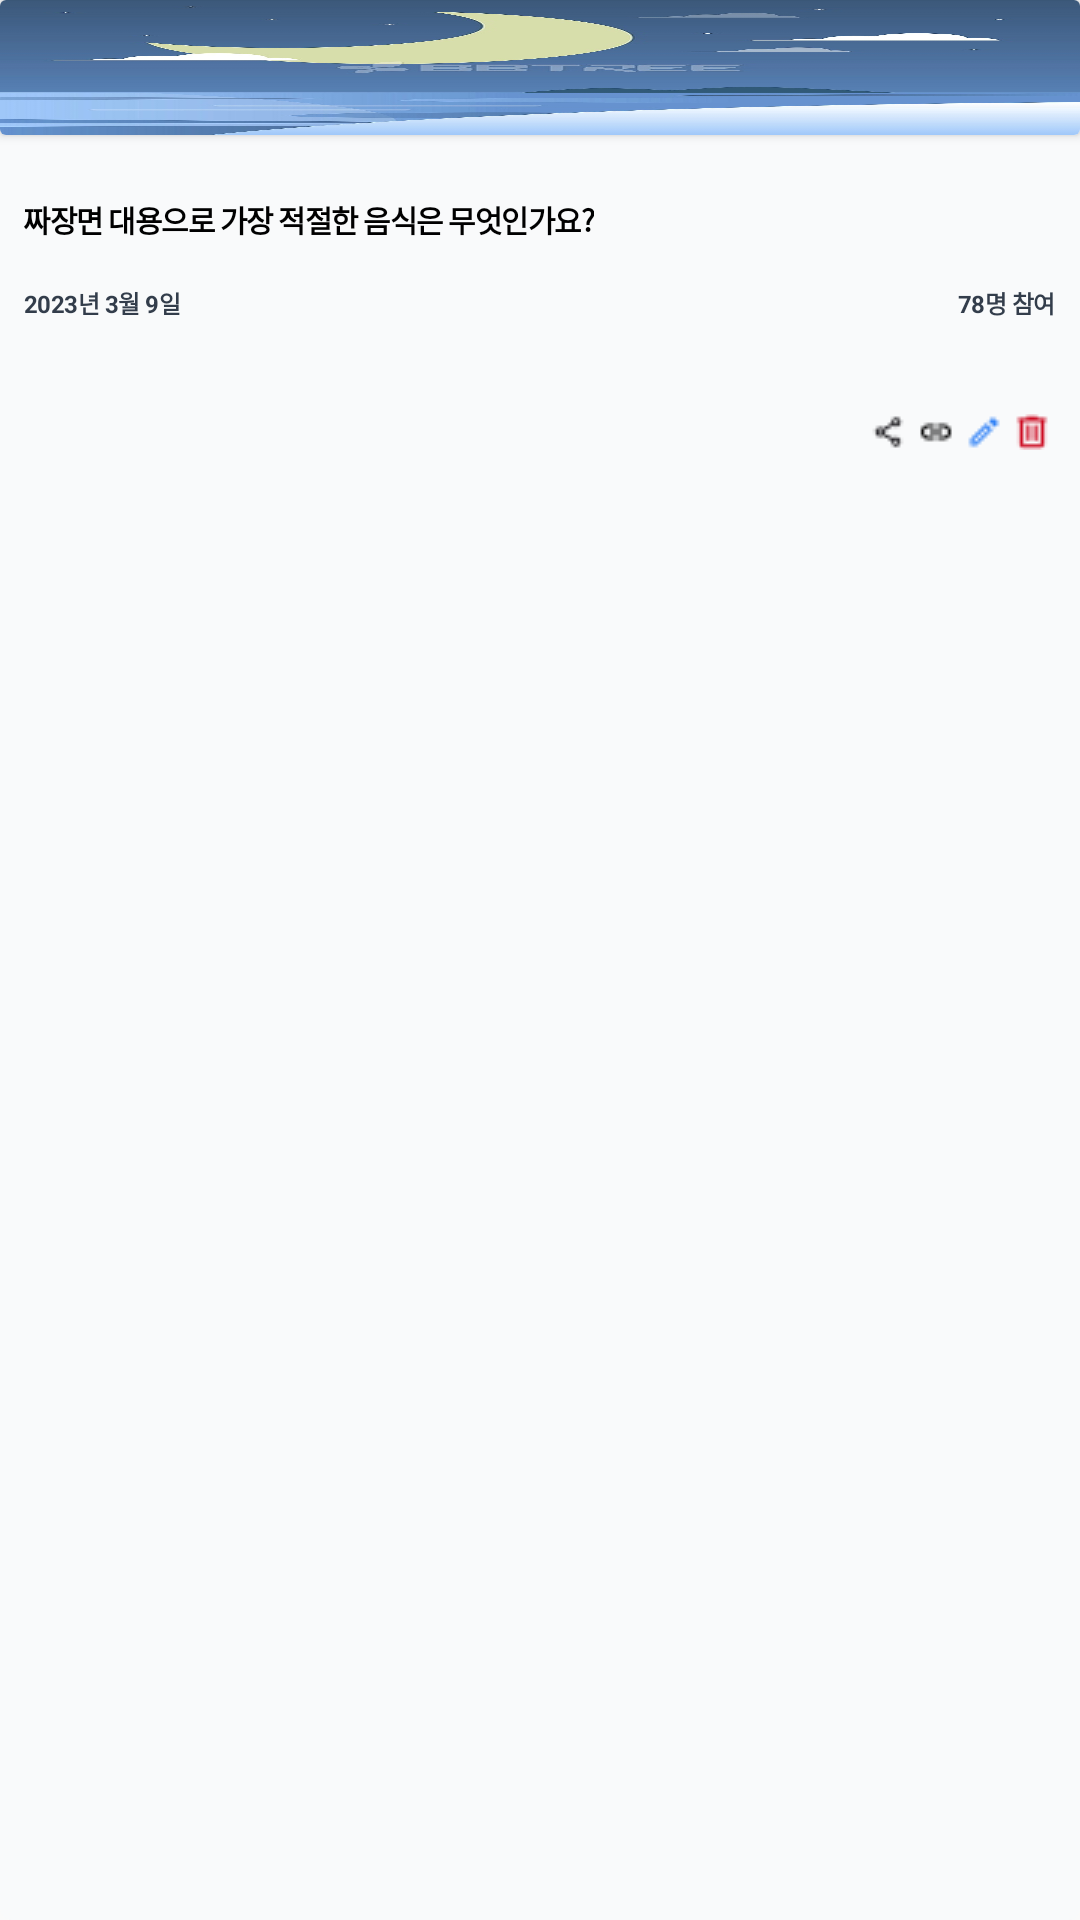

Icons on this 1080w x 1920h Android screen, each with the point to tap as (x,y):
delete: (1032,432)
edit: (984,432)
link: (936,432)
share: (888,432)
